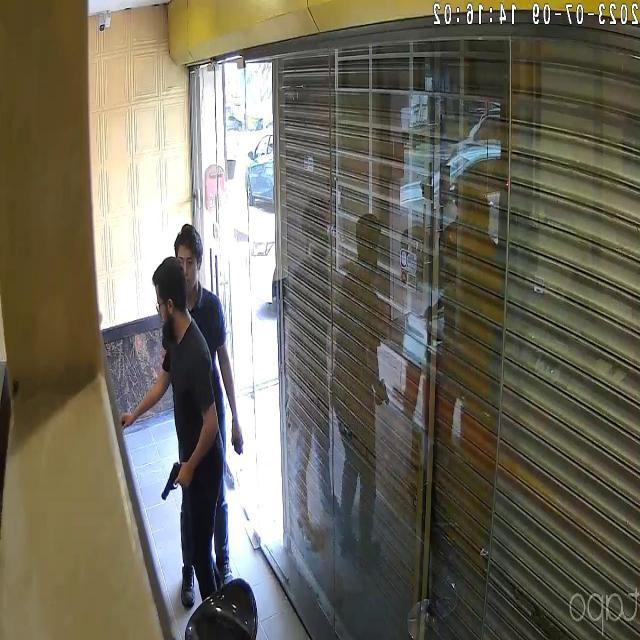Gun: (151, 450, 190, 512)
